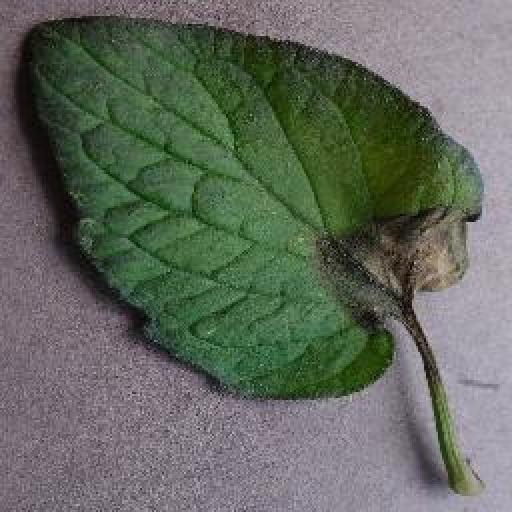Late Blight: (19, 11, 492, 404)
